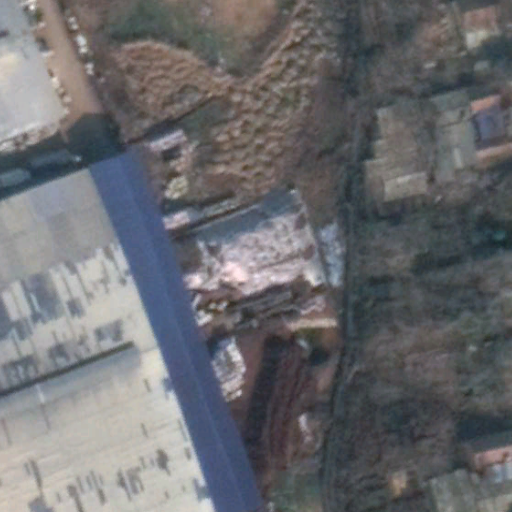msw: (172, 200, 345, 316)
